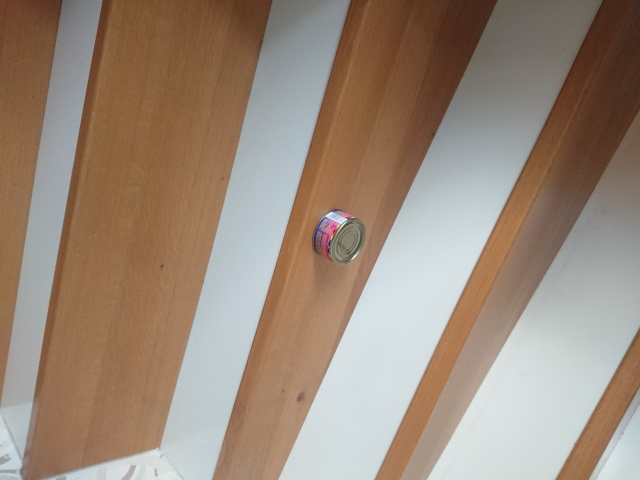Giana Tuna Salad Mexico 185g: (310, 207, 368, 266)
